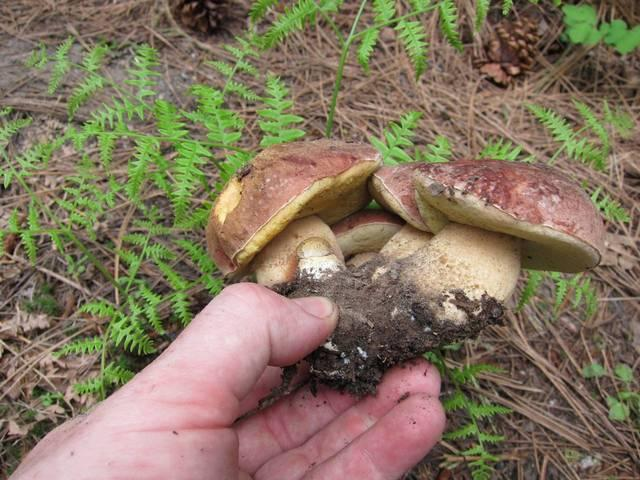Edible Mushroom: (205, 136, 605, 410)
